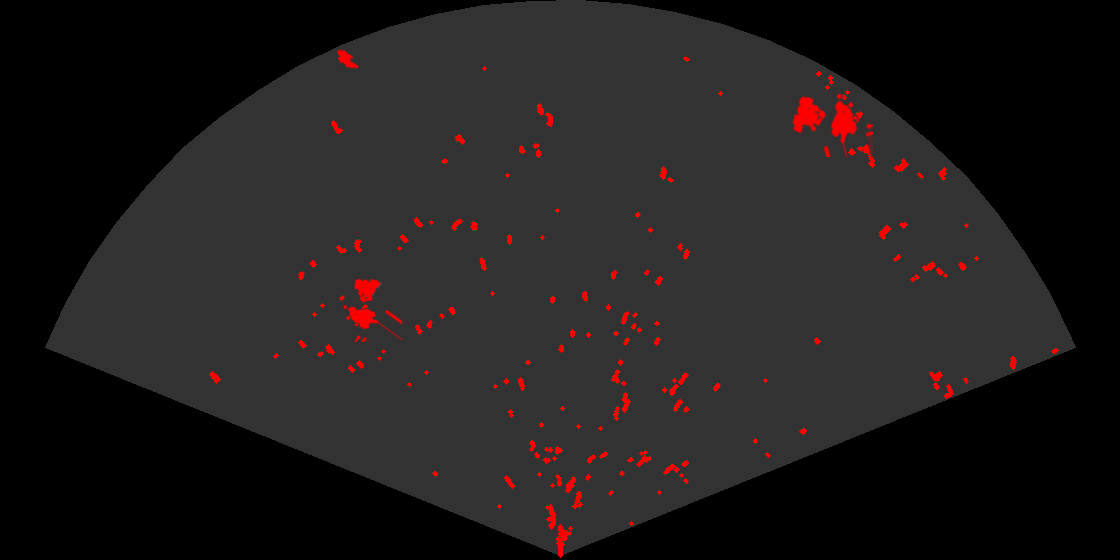AUV: (335, 48, 360, 73)
cage: (791, 91, 873, 157), (342, 277, 402, 342)
